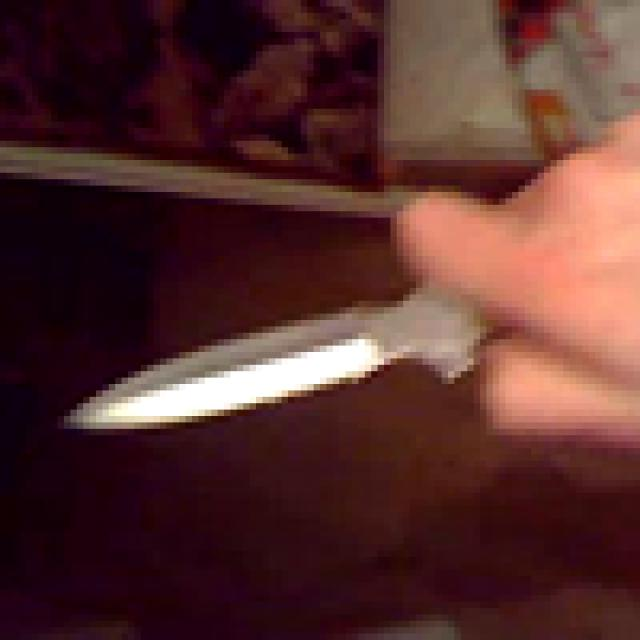Knife_Handle: (64, 112, 640, 432)
